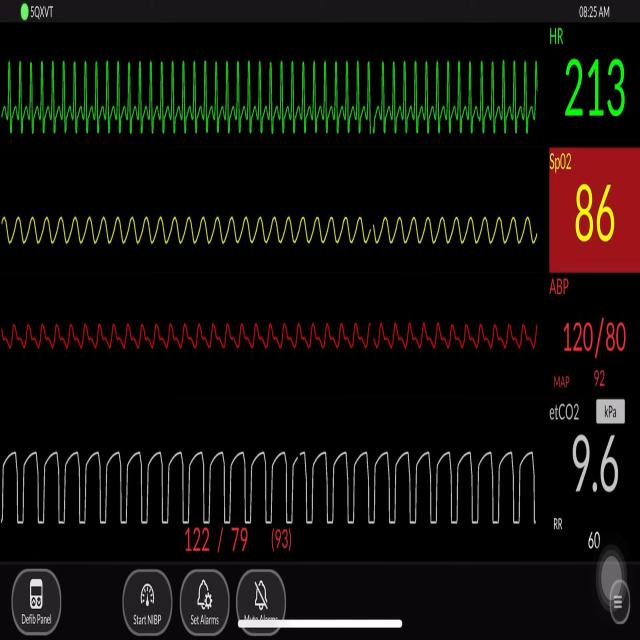danger: (3, 45, 541, 150)
